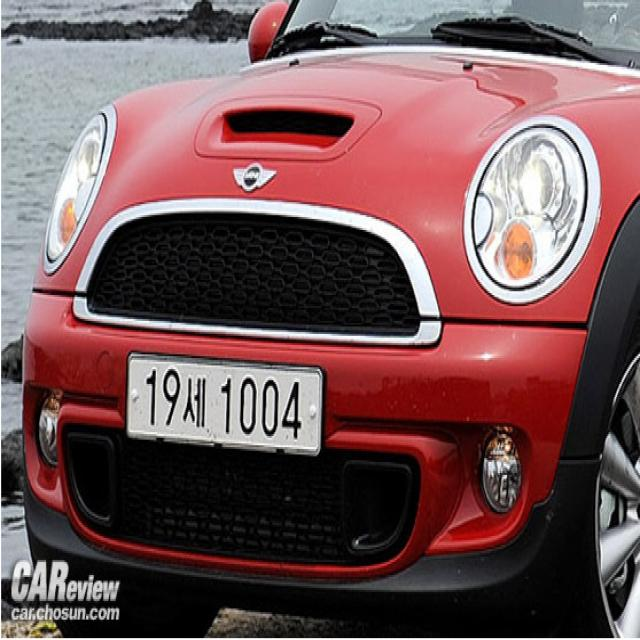illegal_plate: (126, 349, 327, 468)
